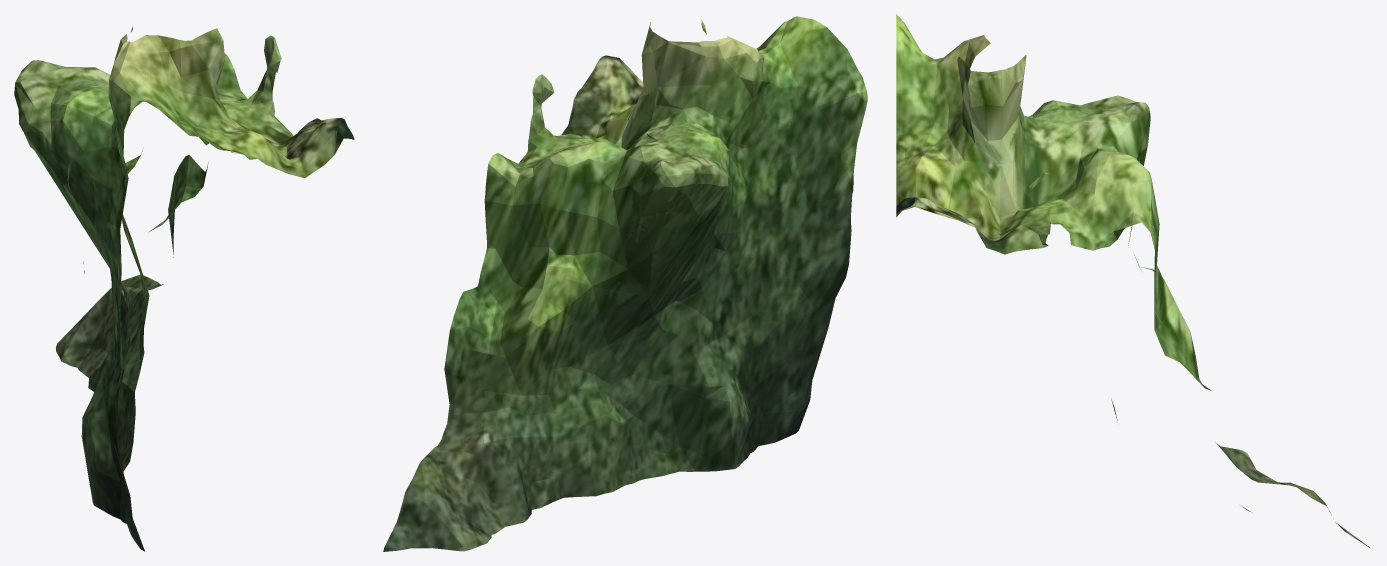
The picture shows the model from 3 angles, left to right: view 1: azimuth 30°, elevation 25°; view 2: azimuth 150°, elevation 25°; view 3: azimuth 270°, elevation 25°; orthographic projection. The views are drawn at different scales.
Size of the model in its own units: 3.78 by 5.9 by 5.83.
3 materials, 3 textured.
